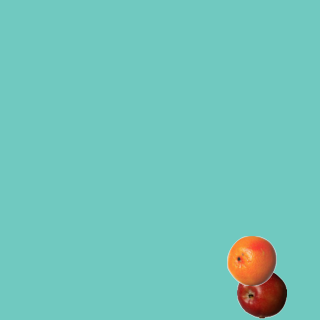Apple Braeburn: (236, 268, 286, 318)
Grapefruit Pink: (226, 235, 276, 285)
